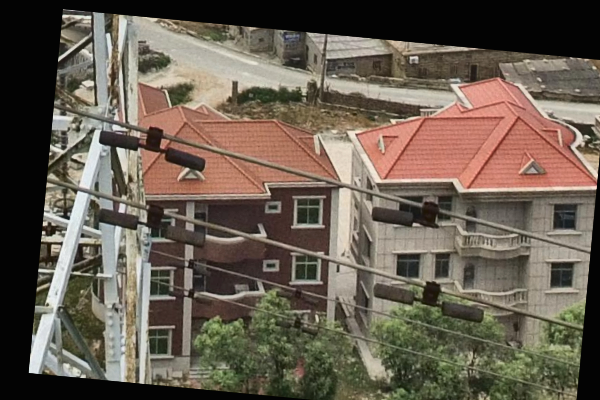damper: (92, 197, 206, 249), (369, 274, 485, 325), (97, 122, 206, 173), (273, 313, 320, 337), (273, 285, 319, 307), (165, 256, 213, 277), (166, 285, 214, 306)
damper_defect: (368, 196, 445, 231)
